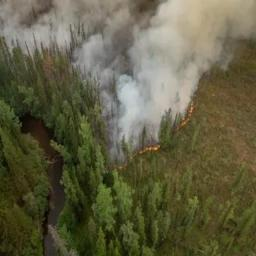Heavy smoke: (0, 0, 255, 166)
Small fire: (110, 78, 212, 177)
